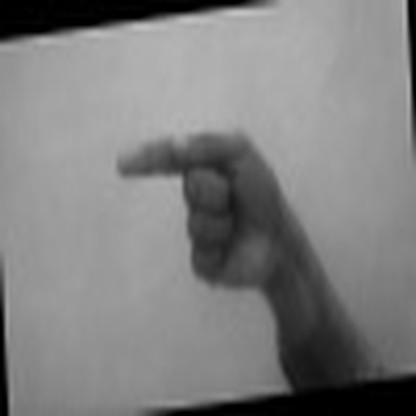g: (113, 118, 305, 290)
